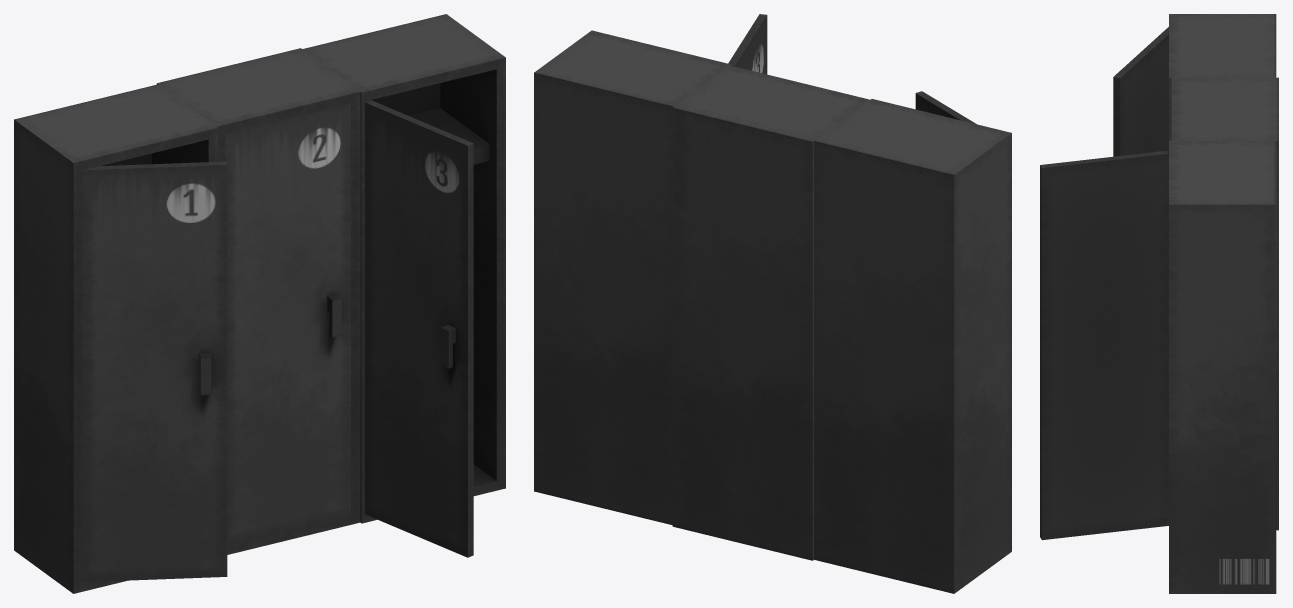
File: LockersMerged.fbx
3 views of the same model, side by side, from view 1: azimuth 30°, elevation 25°; view 2: azimuth 150°, elevation 25°; view 3: azimuth 270°, elevation 25° (orthographic). The views are drawn at different scales.
Visible parts, largest first — view 1: LockerCracked, LockerOpen, LockerClosed; view 2: LockerCracked, LockerOpen, LockerClosed; view 3: LockerOpen, LockerCracked, LockerClosed.
Part boxes in pixels (<box>): LockerCracked: <box>14,84,227,593</box>; LockerOpen: <box>302,14,505,557</box>; LockerClosed: <box>156,48,360,554</box>; LockerCracked: <box>814,91,1011,593</box>; LockerOpen: <box>534,14,767,525</box>; LockerClosed: <box>672,65,869,560</box>; LockerOpen: <box>1040,141,1276,593</box>; LockerCracked: <box>1113,14,1276,156</box>; LockerClosed: <box>1171,77,1278,530</box>.
Bounding box in the file's own units: 82.68 × 78.74 × 43.77.
